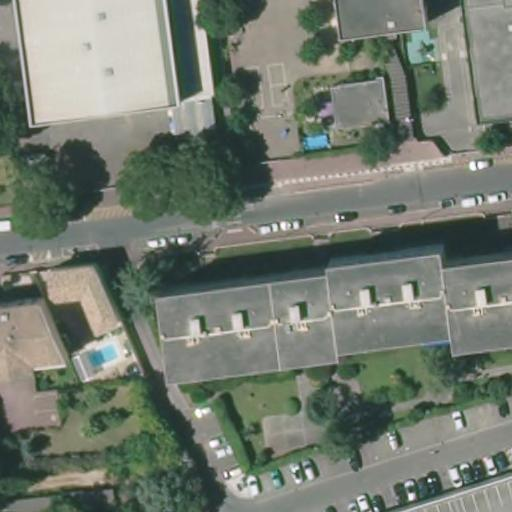pool: (83, 342, 119, 368), (300, 134, 333, 150)
